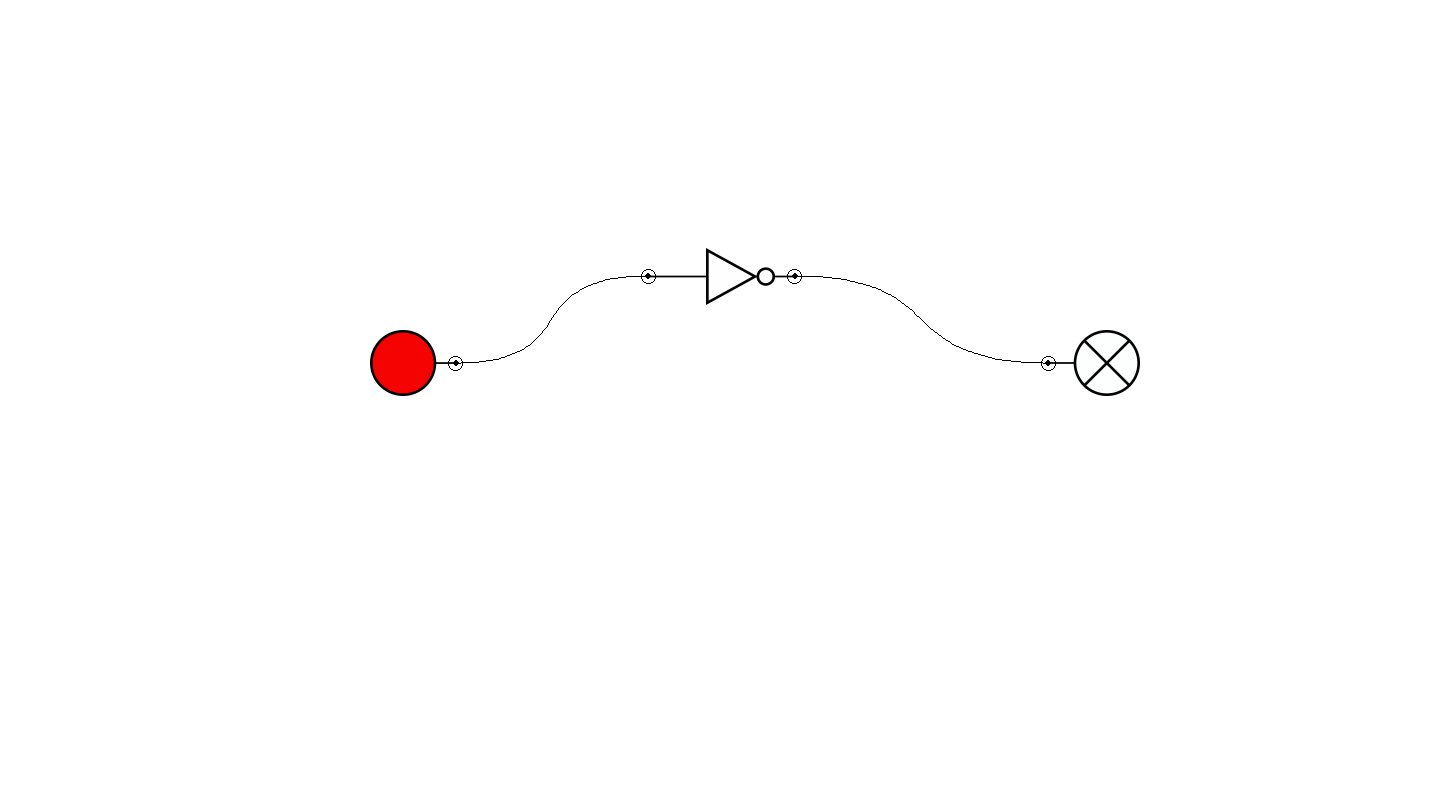bulb: (1041, 330, 1140, 396)
not: (641, 248, 802, 305)
switch_False: (370, 330, 463, 396)
